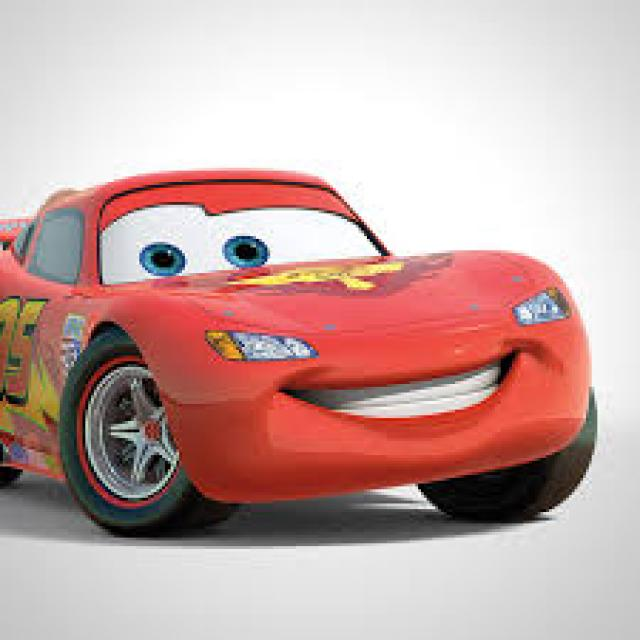Car: (0, 161, 596, 528)
